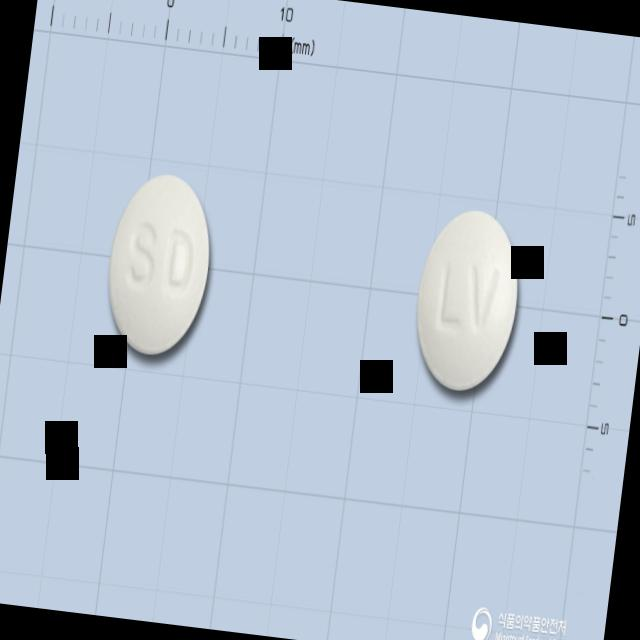Levarox: (98, 168, 219, 364), (408, 204, 528, 396)
